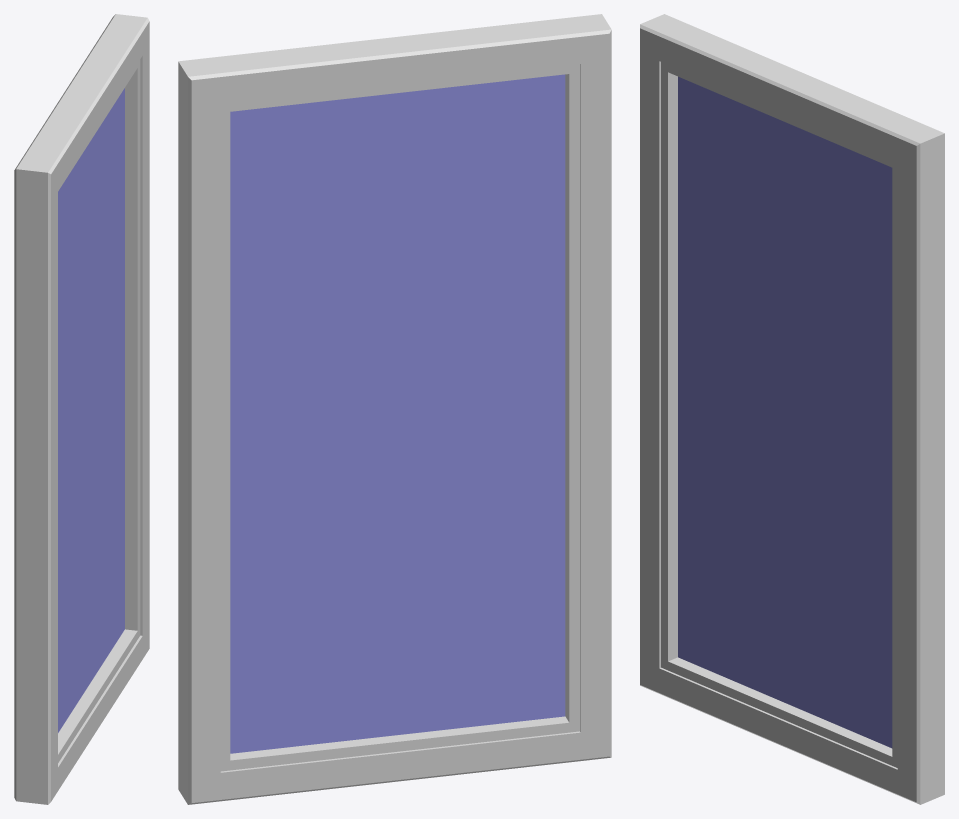
Rendered from window-panels.fbx.
3 views of the same model, side by side, from view 1: azimuth 30°, elevation 25°; view 2: azimuth 150°, elevation 25°; view 3: azimuth 270°, elevation 25° (orthographic). The views are drawn at different scales.
Parts seen in each view (by area): view 1: Window Panel; view 2: Window Panel; view 3: Window Panel.
Part boxes in pixels (left/top/right/bottom): Window Panel: left=14, top=14, right=149, bottom=804; Window Panel: left=178, top=14, right=611, bottom=804; Window Panel: left=640, top=14, right=944, bottom=804.
Size of the model in its own units: 27.93 by 66.46 by 27.77.
